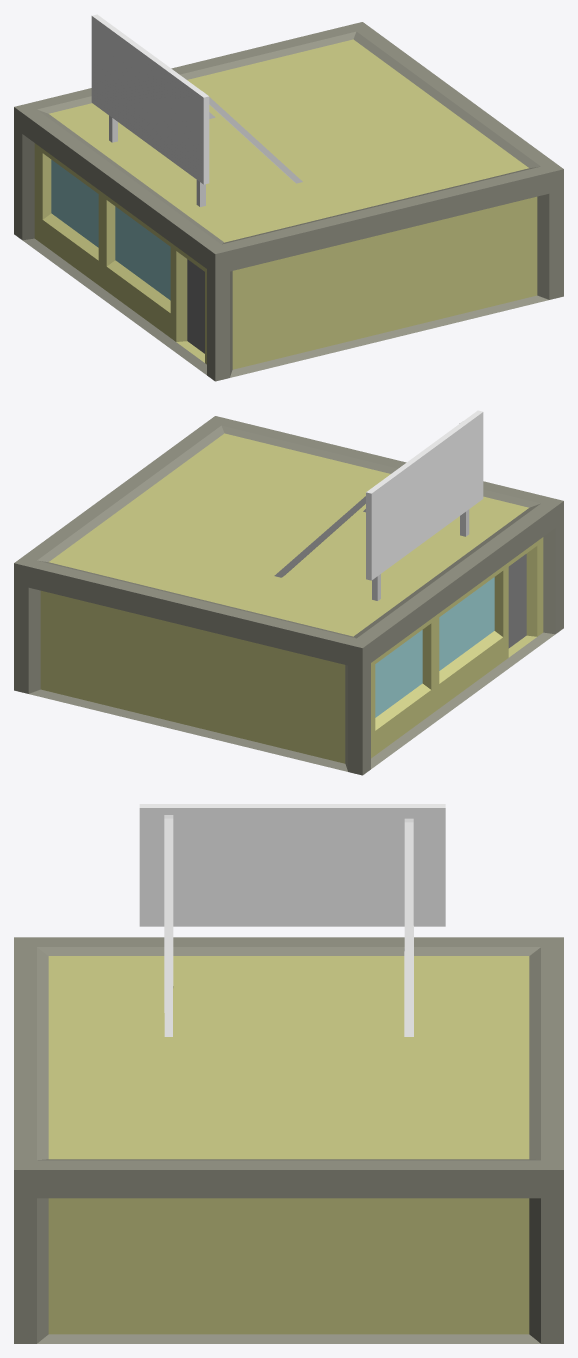
File: shop_building.fbx
3 renders of one model, top to bottom at view 1: azimuth 30°, elevation 25°; view 2: azimuth 150°, elevation 25°; view 3: azimuth 270°, elevation 25°, orthographic. The views are drawn at different scales.
Parts seen in each view (by area): view 1: shop_building; view 2: shop_building; view 3: shop_building.
Boxes of the visible parts, x1=… form: shop_building: x1=14, y1=14, x2=563, y2=381; shop_building: x1=14, y1=410, x2=563, y2=775; shop_building: x1=14, y1=804, x2=563, y2=1343.
Bounding box in the file's own units: 12.58 × 8.34 × 12.58.
